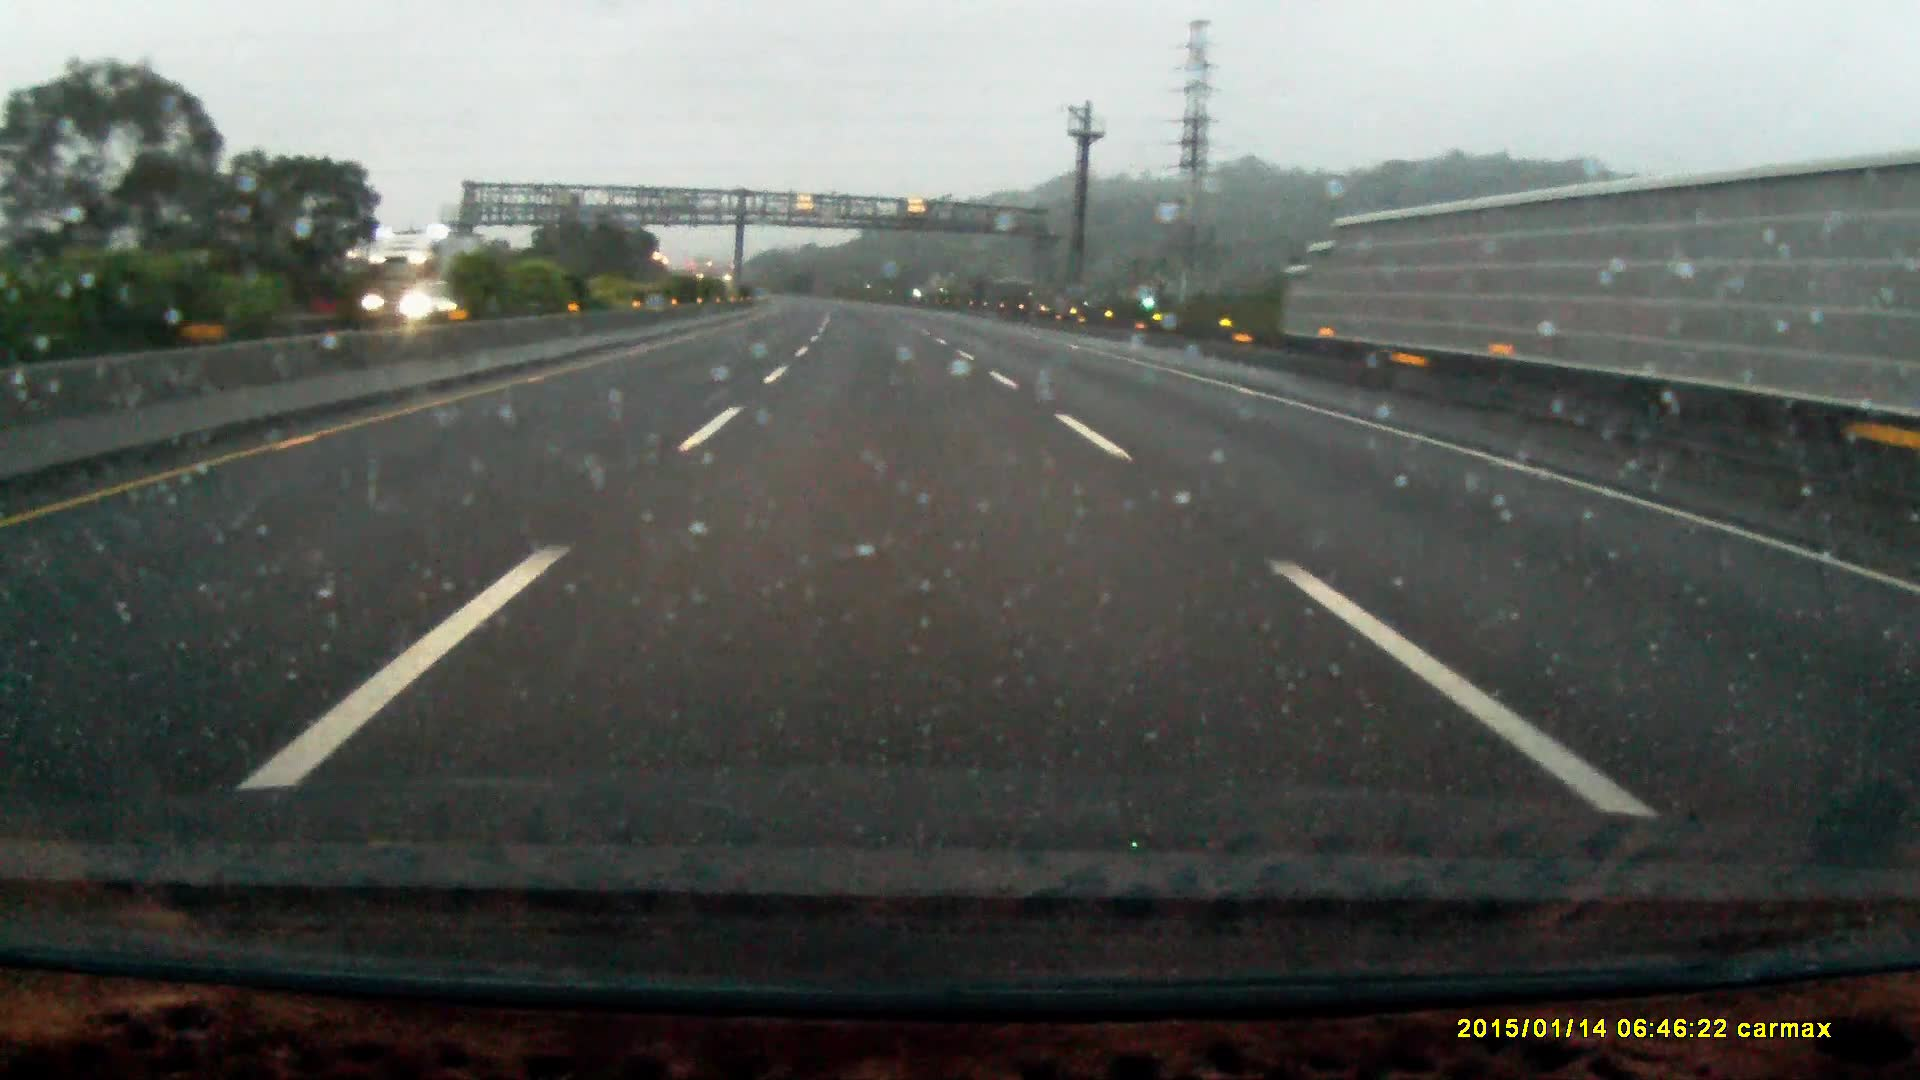vehicle: (365, 233, 489, 324), (397, 278, 484, 320)
